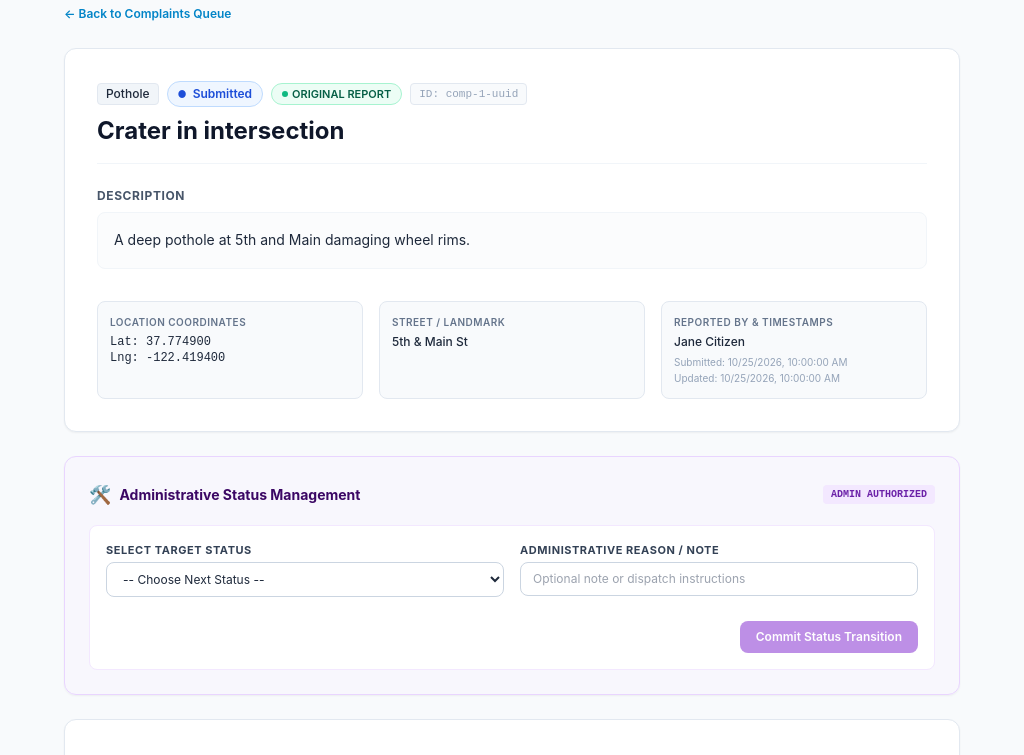
Test: Complaint Detail Page Tests › enforces mandatory reason note when admin selects REJECTED status
The image size is (1024, 755).
Expected: the heading "Administrative Status Management" is shown, [120,485,360,505]
Select "Rejected (REJECTED)" in the dropdown: point(305, 580) [106,562,504,597]
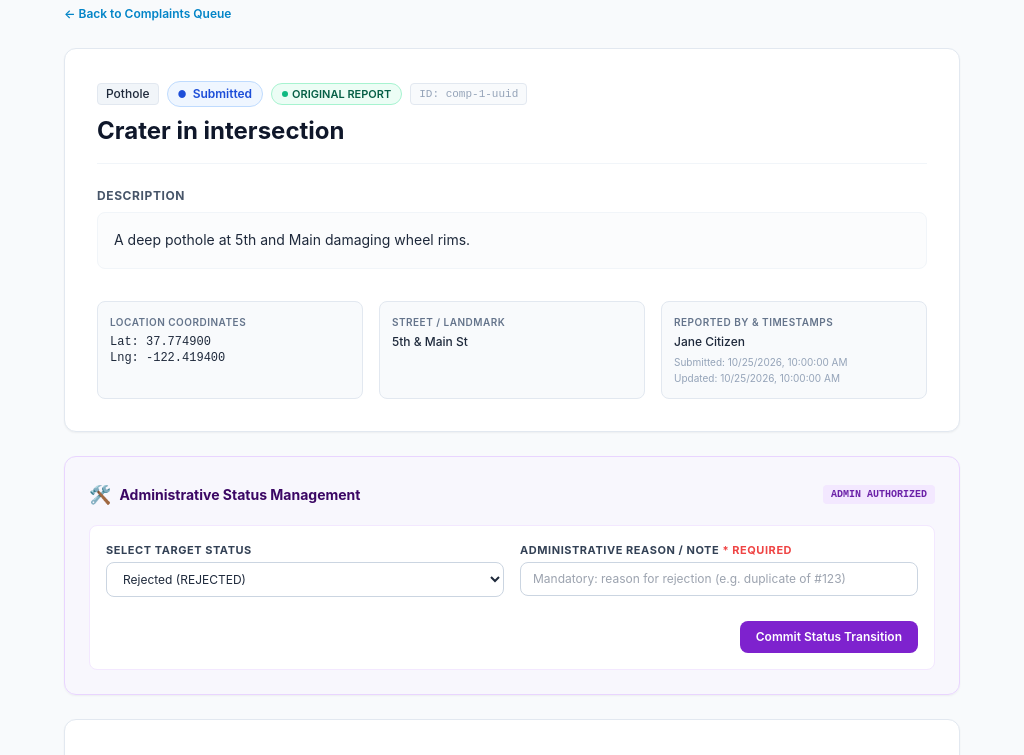
# Try submitting without reason
Submit the form named "commit status transition", box [89,525,935,670]
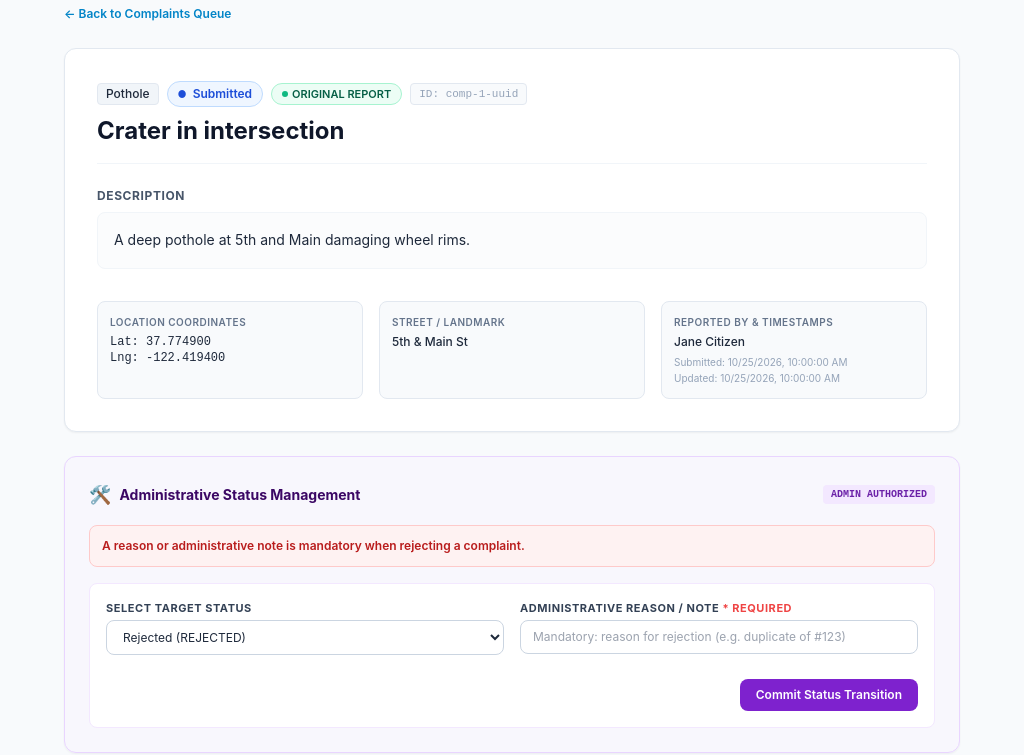
Result: the text "A reason or administrative note is mandatory when rejecting a complaint" is shown at [102,538,525,553]
